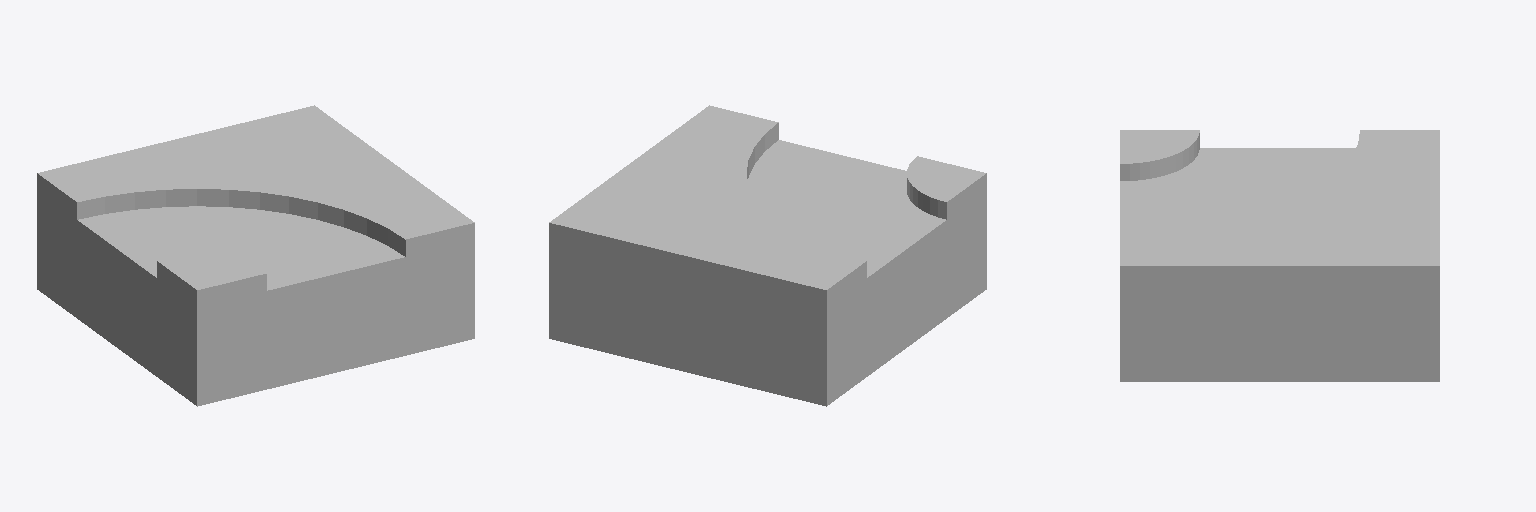
The model's file is tile_085.obj.
3 renders of one model, left to right at view 1: azimuth 30°, elevation 25°; view 2: azimuth 150°, elevation 25°; view 3: azimuth 270°, elevation 25°, orthographic.
Parts seen in each view (by area): view 1: tile_085; view 2: tile_085; view 3: tile_085.
Part boxes in pixels (x1,y1,x2,y2): tile_085: (37, 105, 474, 406); tile_085: (549, 105, 986, 406); tile_085: (1120, 130, 1439, 381).
Size of the model in its own units: 1 by 0.4 by 1.